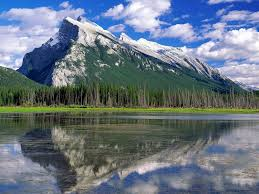lake: (8, 108, 255, 191)
mountain: (29, 26, 237, 112)
